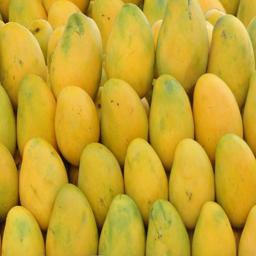Mango Fresh: (105, 0, 256, 150), (5, 116, 77, 218), (42, 5, 107, 105), (91, 75, 155, 161), (168, 129, 222, 225)
